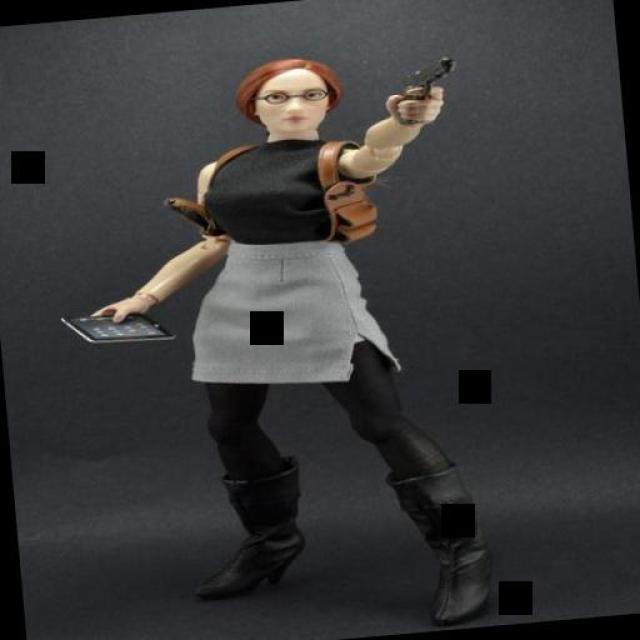gun: (390, 54, 460, 98)
